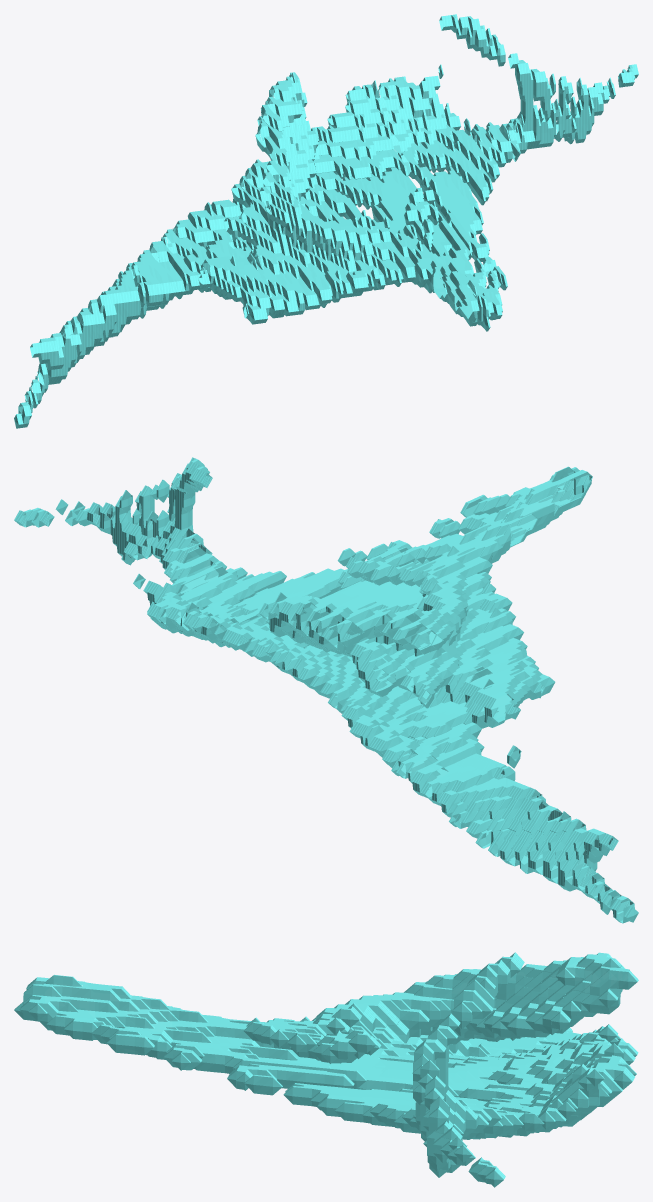
File: SVV_BWM-DL01.gltf
3 renders of one model, top to bottom at view 1: azimuth 30°, elevation 25°; view 2: azimuth 150°, elevation 25°; view 3: azimuth 270°, elevation 25°, orthographic. The views are drawn at different scales.
Parts seen in each view (by area): view 1: BWM-DL01; view 2: BWM-DL01; view 3: BWM-DL01.
Boxes of the visible parts, x1,y1,x2,y2 form: BWM-DL01: (14, 14, 638, 428); BWM-DL01: (14, 457, 638, 923); BWM-DL01: (14, 952, 638, 1187).
Bounding box in the file's own units: 57634 × 29028 × 42149.
